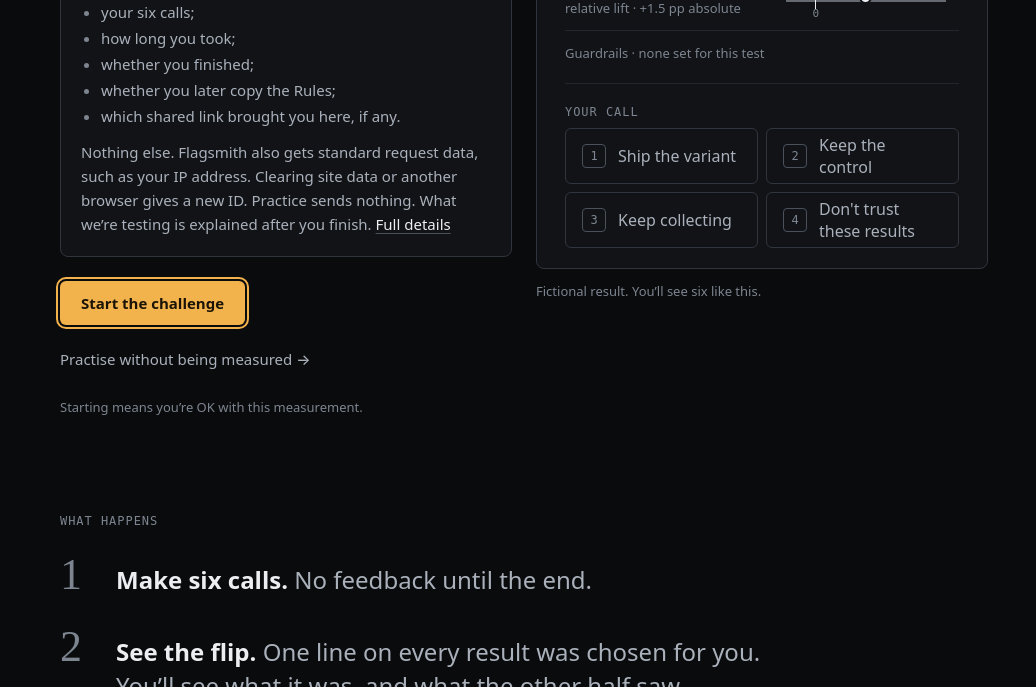
Test: Landing › Start shows Preparing (busy, focus kept), then an enrolled player goes to the challenge
(page scrolled)
What coordinates should you click on to do the following:
click the button "Start the challenge"
I would click on:
 (152, 303)
Its box is [60,281,245,325].
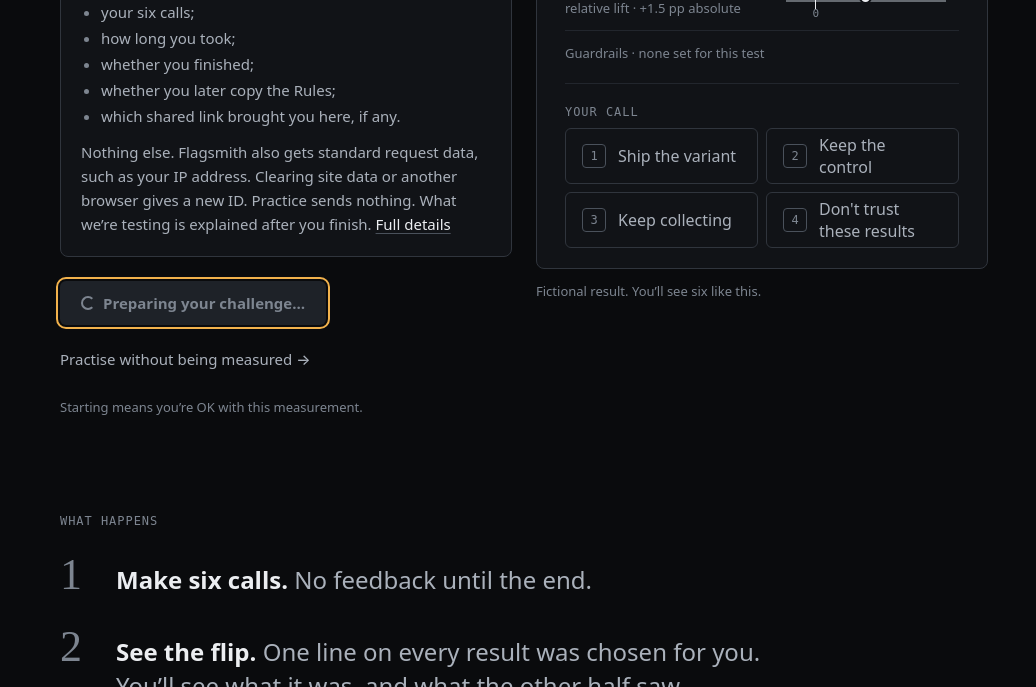
Expected: the button named "Start the challenge" shows "Preparing your challenge"
What coordinates should you click on to do the following:
click the button named "Start the challenge"
I would click on:
 (193, 303)
Its box is [60,281,326,325].
(page scrolled)
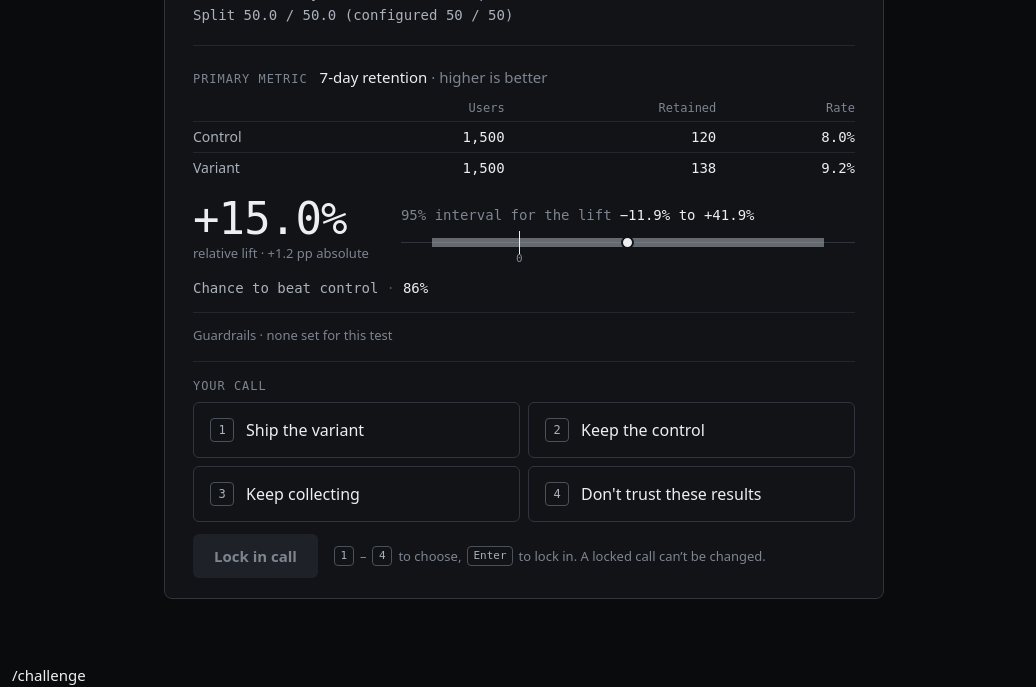
Expected: the text with test id "path" reads "/challenge", [12,665,86,685]
